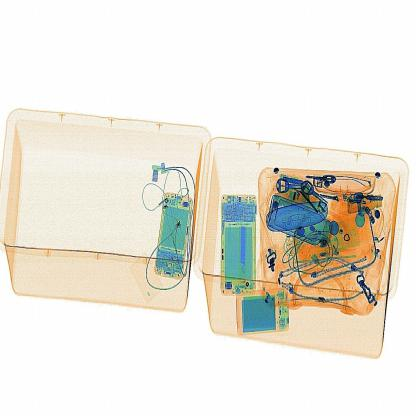pliers: (230, 216, 256, 281)
